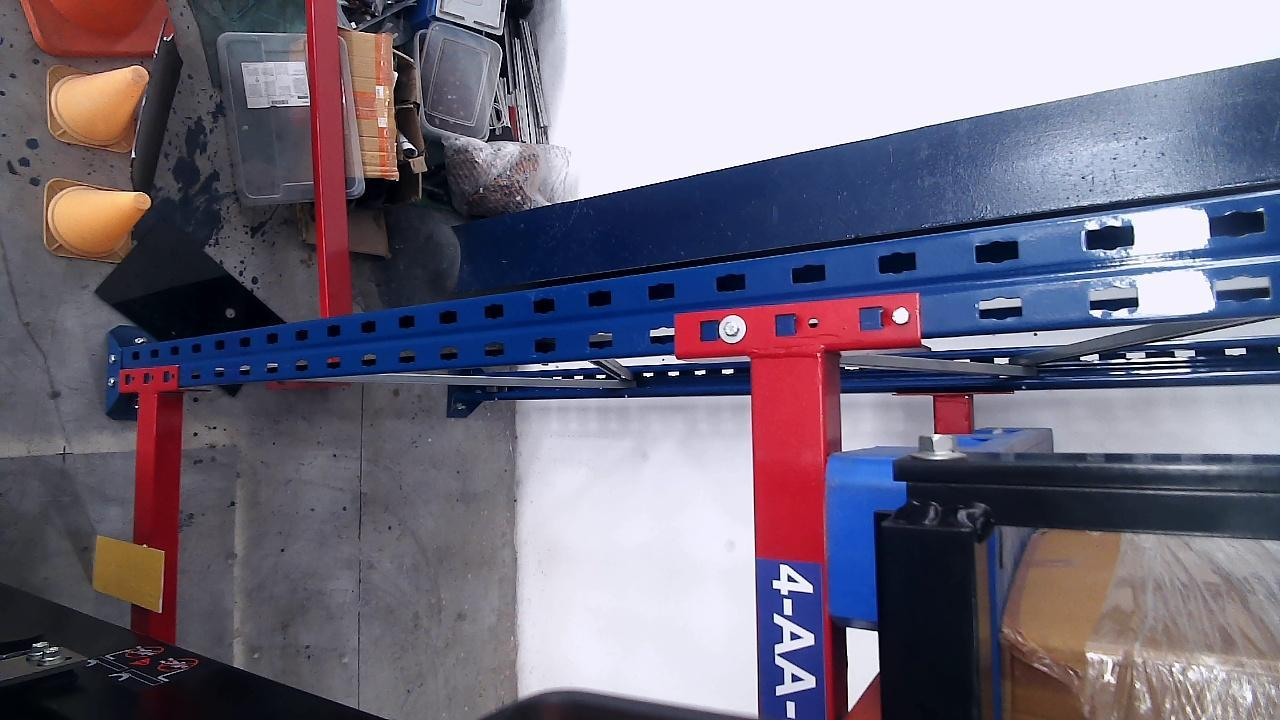h_rack: (751, 351, 833, 720), (130, 391, 160, 638)
orange_strip: (94, 538, 163, 614)
